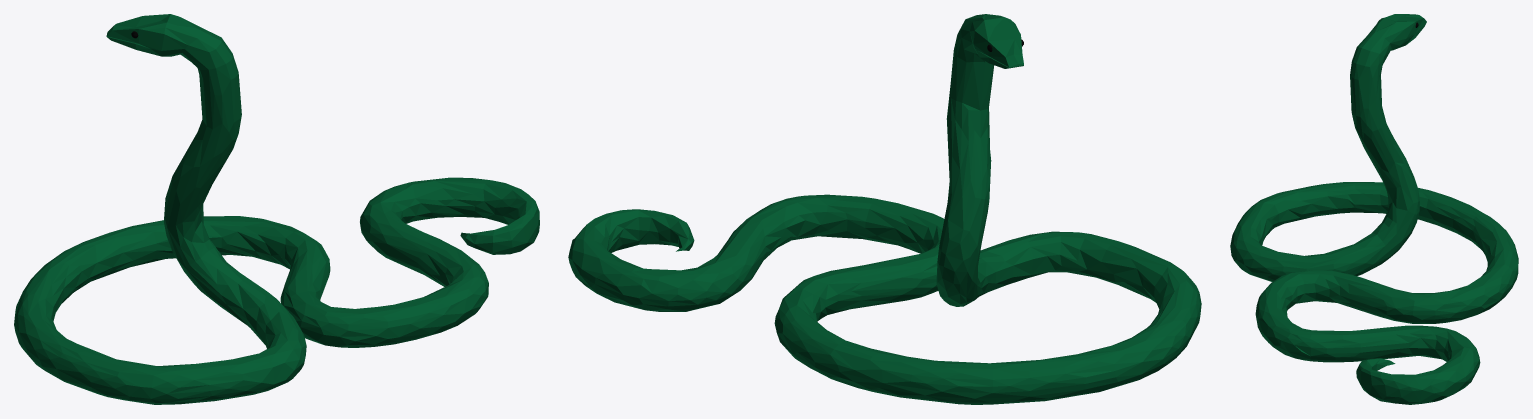
The model's file is snake.fbx.
3 views of the same model, side by side, from view 1: azimuth 30°, elevation 25°; view 2: azimuth 150°, elevation 25°; view 3: azimuth 270°, elevation 25° (orthographic). The views are drawn at different scales.
Parts seen in each view (by area): view 1: pCube2; view 2: pCube2; view 3: pCube2.
Part boxes in pixels (bbox=[...]): pCube2: bbox=[14, 14, 539, 404]; pCube2: bbox=[568, 14, 1201, 404]; pCube2: bbox=[1230, 14, 1518, 404].
Size of the model in its own units: 15.37 by 8.55 by 9.18.
